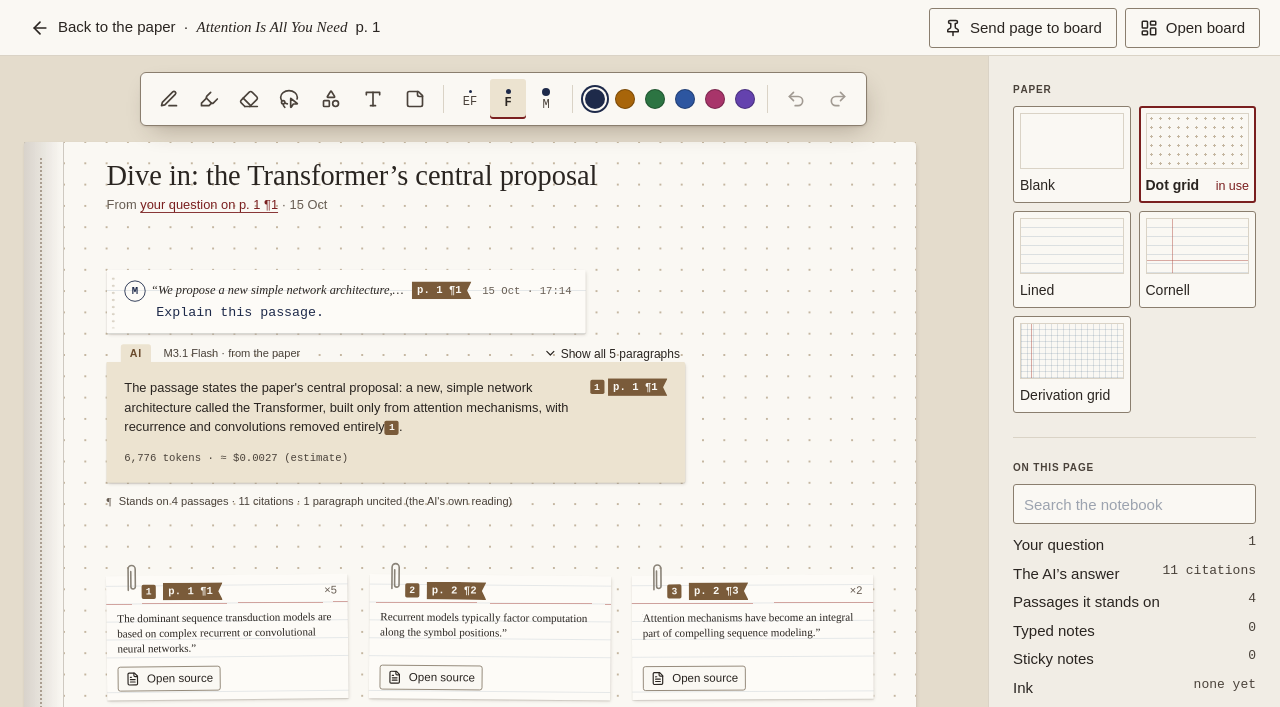
Test case: Send page to board, once › places the card below a card added to the board since the page read it (#218)
The width and height of the screenshot is (1280, 707).
Click the button "Send page to board" at (1023, 28), box [929,8,1117,48]
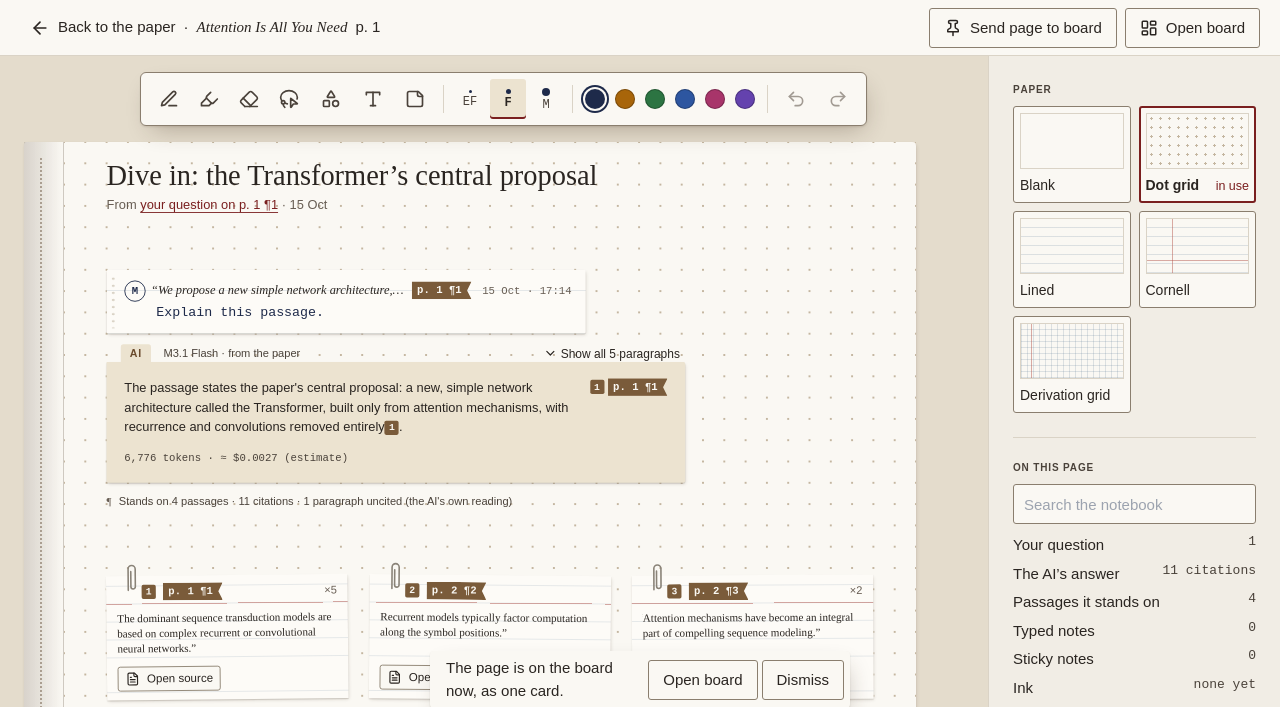
Now the text "The page is on the board now, as one card." is shown, box [446,659,613,698]
